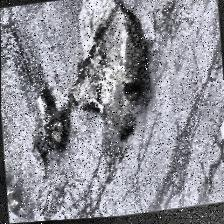pothole: (101, 43, 155, 144), (33, 86, 75, 152), (6, 168, 31, 220)
